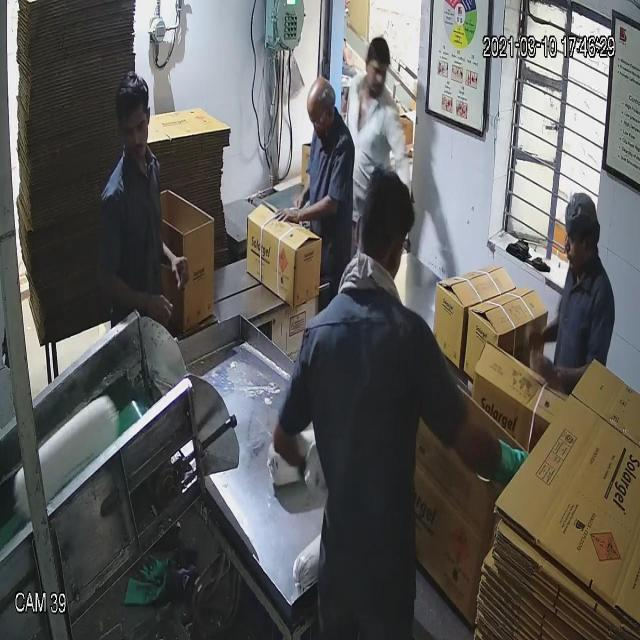No_Gloves: (62, 42, 568, 365)
